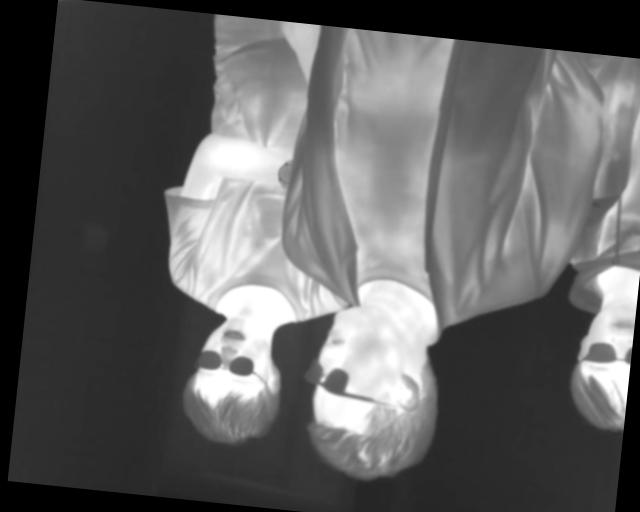face: (301, 302, 450, 490), (180, 311, 287, 451), (565, 299, 635, 433)
